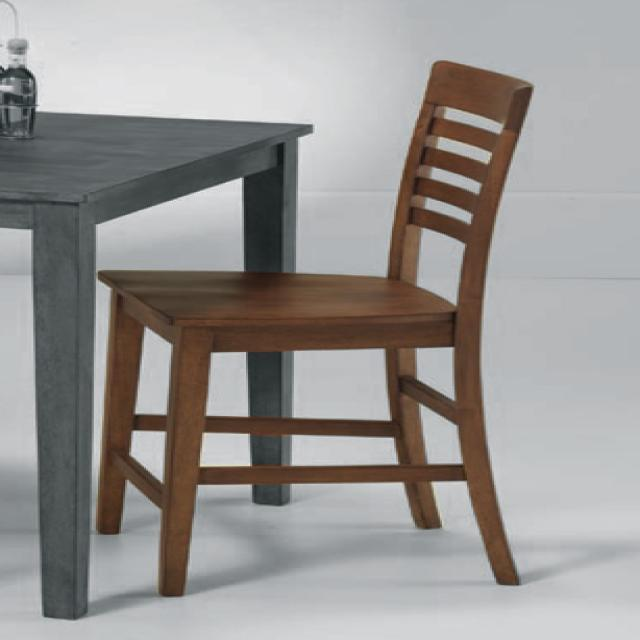chair: (93, 57, 534, 600)
